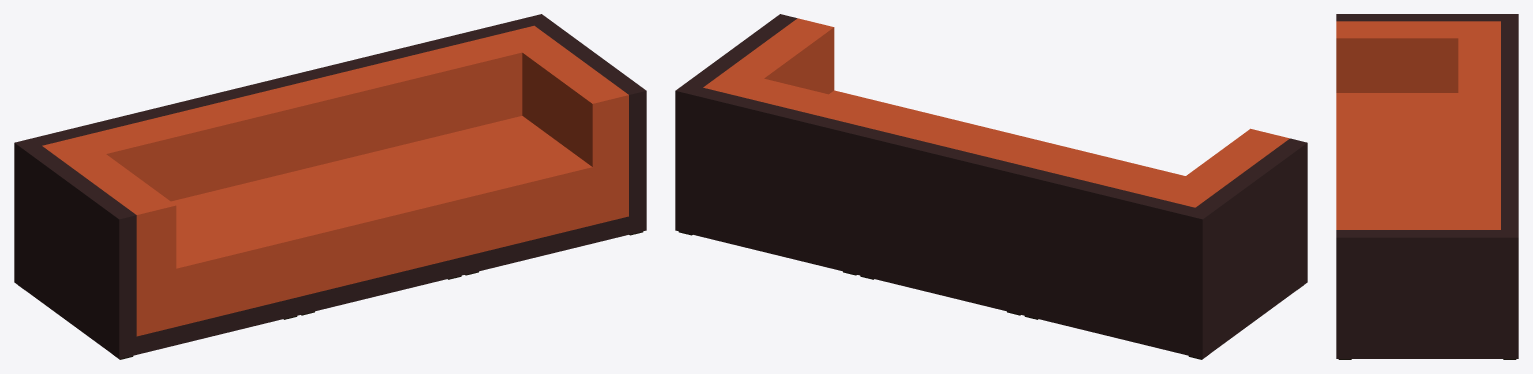
Rendered from sofa1.obj.
3 views of the same model, side by side, from view 1: azimuth 30°, elevation 25°; view 2: azimuth 150°, elevation 25°; view 3: azimuth 270°, elevation 25° (orthographic). The views are drawn at different scales.
Parts seen in each view (by area): view 1: Mesh1 Model; view 2: Mesh1 Model; view 3: Mesh1 Model.
Boxes of the visible parts, x1,y1,x2,y2 form: Mesh1 Model: (14,14,646,359); Mesh1 Model: (675,14,1307,359); Mesh1 Model: (1336,14,1518,359).
Bounding box in the file's own units: 2.41 × 0.62 × 0.83.
